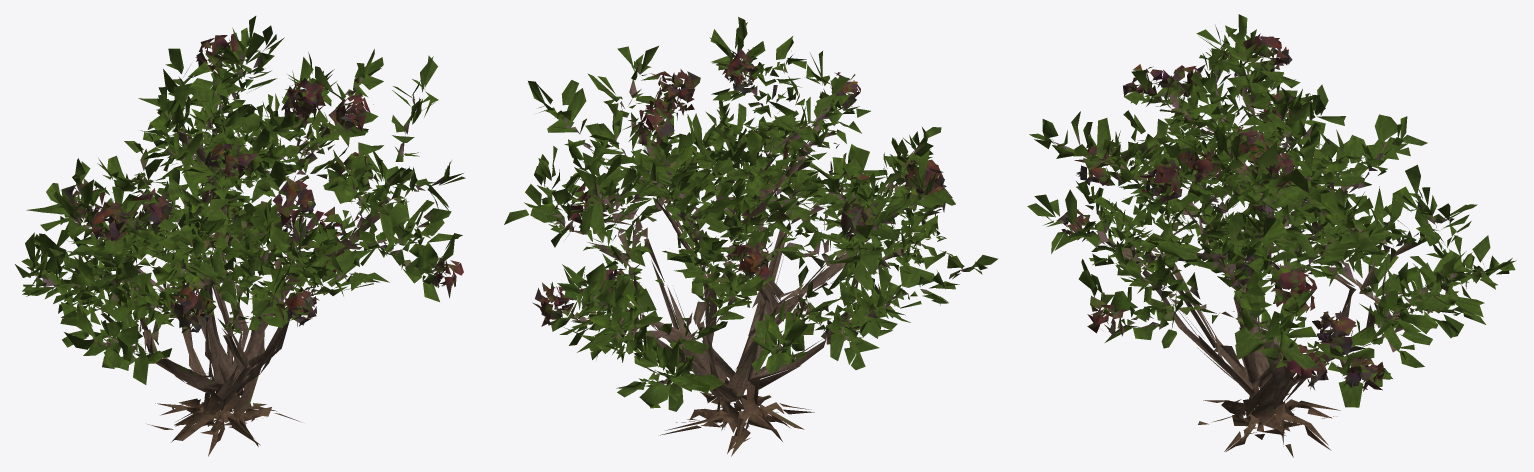
File: berry-bush-lod-performance.glb
3 views of the same model, side by side, from view 1: azimuth 30°, elevation 25°; view 2: azimuth 150°, elevation 25°; view 3: azimuth 270°, elevation 25° (orthographic). The views are drawn at different scales.
Visible parts, largest first — view 1: berry-bush.001; view 2: berry-bush.001; view 3: berry-bush.001.
Boxes of the visible parts, x1,y1,x2,y2 form: berry-bush.001: (15,16,465,456); berry-bush.001: (504,17,997,456); berry-bush.001: (1027,14,1516,457).
Bounding box in the file's own units: 1.33 × 1.2 × 1.27.
Materials: 1 (1 with a texture image).
